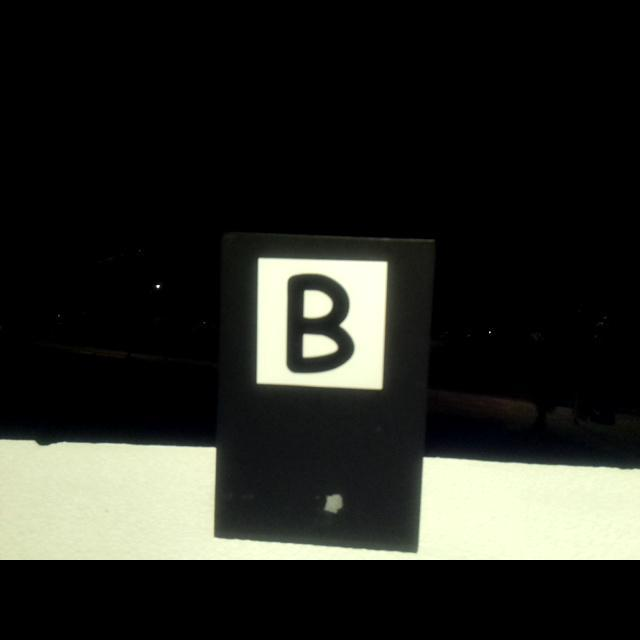B: (286, 273, 354, 374)
